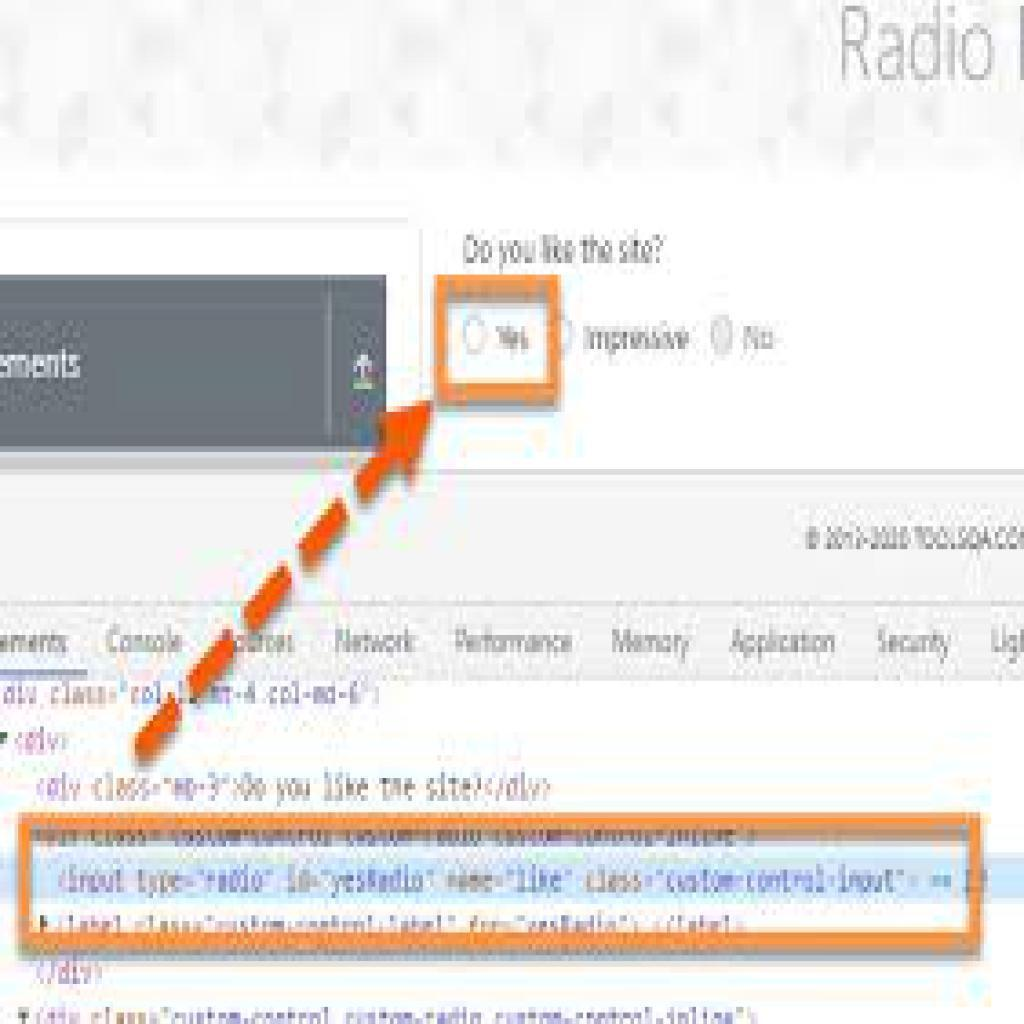dropdown: (1, 275, 386, 450)
label: (744, 324, 780, 356), (497, 325, 530, 354)
radio: (461, 313, 490, 354), (712, 312, 735, 361)
